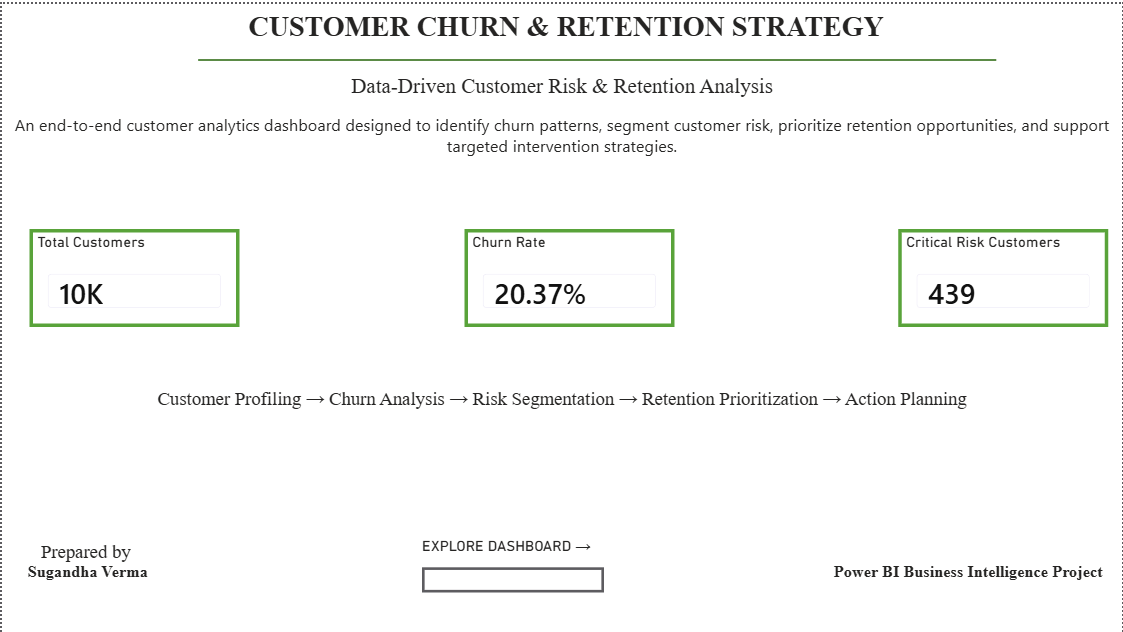

The page's visual inventory and layout, read from the dashboard file:
{"tool":"powerbi","page":{"name":"Cover Page","canvas":[1280,720],"ordinal":0},"visuals":[{"type":"textbox","box":[0,0,1280,192],"z":0},{"type":"shape","box":[224,0,912,128],"z":1000},{"type":"cardVisual","title":"Total Customers","fields":{"Data":["customer_churn_cleaned.Total Customers"]},"box":[32,257.1,240,112],"z":2000},{"type":"cardVisual","title":"Churn Rate","fields":{"Data":["customer_churn_cleaned.Churn Rate"]},"box":[528,257.1,240,112],"z":3000},{"type":"cardVisual","title":"Critical Risk Customers","fields":{"Data":["customer_churn_cleaned.High Critical Risk Customers"]},"box":[1024,257.1,240,112],"z":4000},{"type":"textbox","box":[0,434.3,1280,48.6],"z":5000},{"type":"textbox","box":[944.3,632.9,320,40],"z":6000},{"type":"textbox","box":[16,608,160,64],"z":7000},{"type":"actionButton","title":"EXPLORE DASHBOARD →","box":[480,608,208,64],"z":8000}]}

Visuals, with their boxes in screenshot pixels (x1, y1, x2, y2), scaled from the page's 1280x720 canvas onto the 1123x632 screenshot:
textbox: x1=0, y1=0, x2=1122, y2=169
shape: x1=197, y1=0, x2=997, y2=112
"Total Customers" cardVisual: x1=28, y1=226, x2=239, y2=324
"Churn Rate" cardVisual: x1=463, y1=226, x2=674, y2=324
"Critical Risk Customers" cardVisual: x1=898, y1=226, x2=1109, y2=324
textbox: x1=0, y1=381, x2=1122, y2=424
textbox: x1=828, y1=556, x2=1109, y2=591
textbox: x1=14, y1=534, x2=154, y2=590
"EXPLORE DASHBOARD →" actionButton: x1=421, y1=534, x2=604, y2=590
